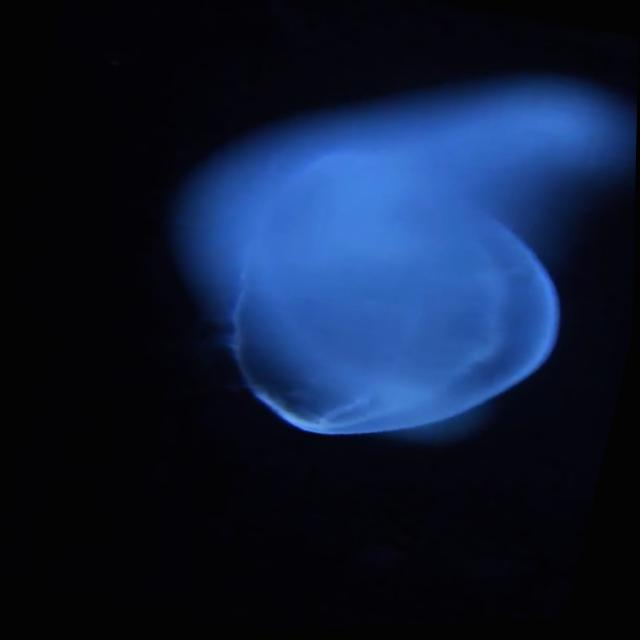Moon-jellyfish: (189, 146, 559, 436)
